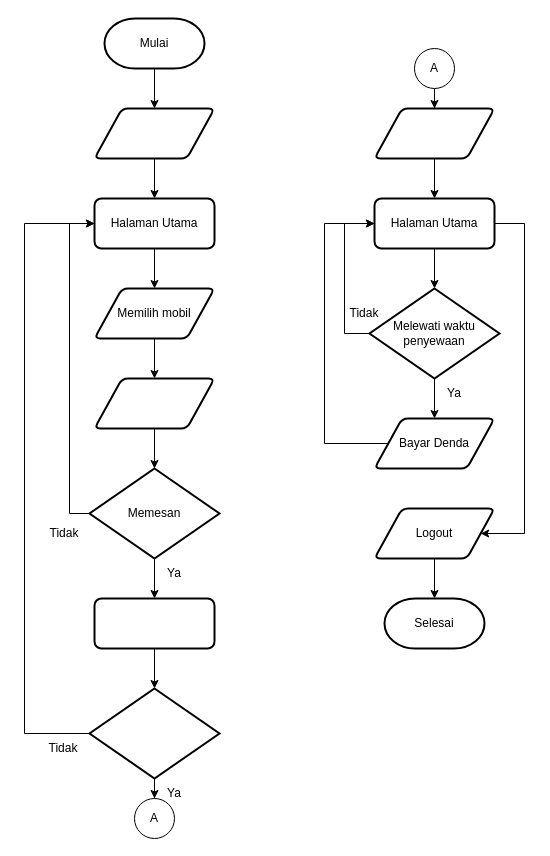
The diagram is 550 pixels wide and 856 high, and some of its shapes have lost their labels. Each missing label, with the centre of its shape:
"Invoice pembayaran" goes at (434,133).
"Login" goes at (154,133).
"Membayar" goes at (154,733).
"Memilih tanggal dan waktu pemesanan" goes at (154,403).
"Menampilkan harga" goes at (154,623).
